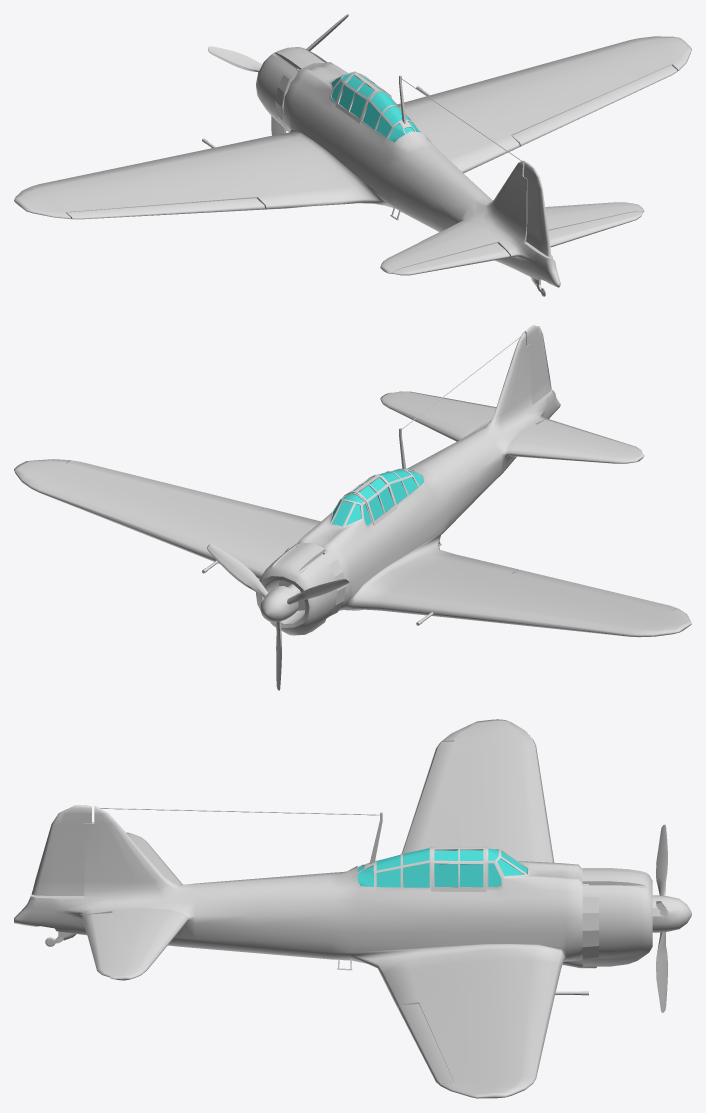
Rendered from Mitsubishi A6M V2.fbx.
The picture shows the model from 3 angles, top to bottom: view 1: azimuth 30°, elevation 25°; view 2: azimuth 150°, elevation 25°; view 3: azimuth 270°, elevation 25°; orthographic projection. The views are drawn at different scales.
Parts seen in each view (by area): view 1: A6M_V2, A6M_V2.008, A6M_V2.002, A6M_V2.001, A6M_V2.003, A6M_V2.004, A6M_V2.005, A6M_V2.010; view 2: A6M_V2, A6M_V2.010, A6M_V2.008, A6M_V2.003, A6M_V2.002, A6M_V2.001, A6M_V2.004, A6M_V2.005; view 3: A6M_V2, A6M_V2.008, A6M_V2.003, A6M_V2.010, A6M_V2.001, A6M_V2.002, A6M_V2.005.
Part boxes in pixels (<box>): A6M_V2: <box>14,36,691,296</box>; A6M_V2.008: <box>331,72,420,142</box>; A6M_V2.002: <box>512,65,677,146</box>; A6M_V2.001: <box>66,198,265,219</box>; A6M_V2.003: <box>524,162,551,257</box>; A6M_V2.004: <box>391,243,509,275</box>; A6M_V2.005: <box>548,211,642,247</box>; A6M_V2.010: <box>208,14,348,135</box>; A6M_V2: <box>14,332,691,637</box>; A6M_V2.010: <box>207,544,349,690</box>; A6M_V2.008: <box>331,469,423,526</box>; A6M_V2.003: <box>524,325,551,404</box>; A6M_V2.002: <box>67,460,264,511</box>; A6M_V2.001: <box>513,569,676,610</box>; A6M_V2.004: <box>537,419,642,453</box>; A6M_V2.005: <box>394,391,496,413</box>; A6M_V2: <box>14,719,652,1098</box>; A6M_V2.008: <box>357,848,527,887</box>; A6M_V2.003: <box>31,805,91,895</box>; A6M_V2.010: <box>652,824,691,1012</box>; A6M_V2.001: <box>401,741,453,853</box>; A6M_V2.002: <box>398,1004,454,1085</box>; A6M_V2.005: <box>83,913,112,977</box>.
Size of the model in its own units: 1223 by 933 by 315.
